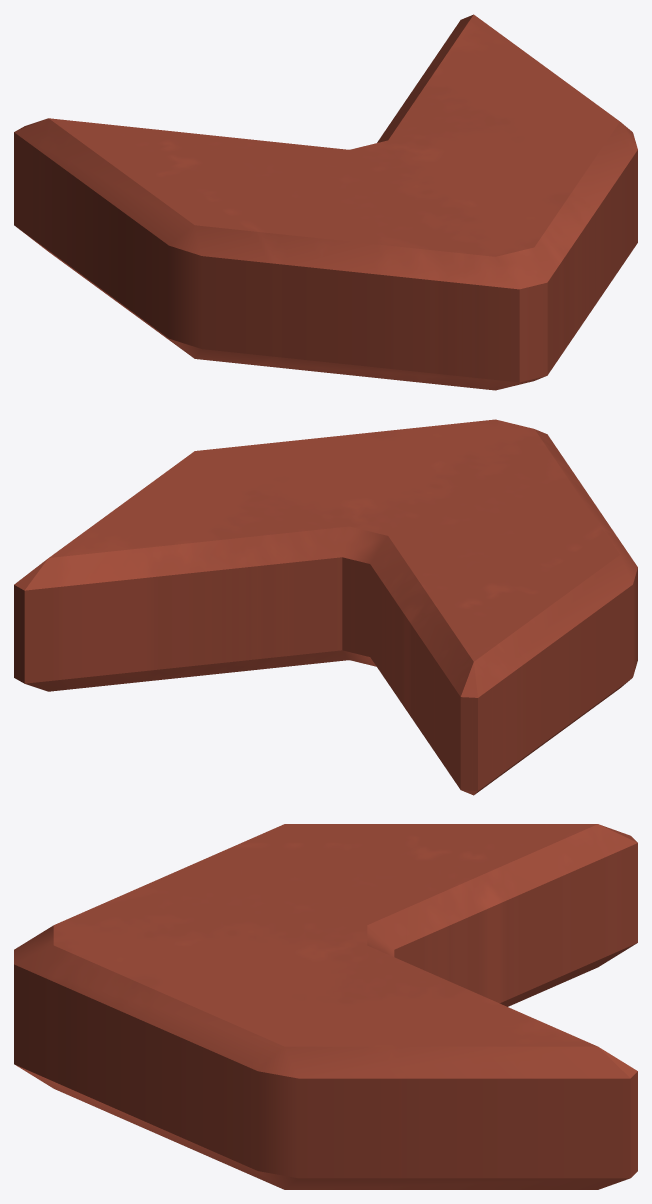
Rendered from Arrow.fbx.
3 views of the same model, one above another, from view 1: azimuth 30°, elevation 25°; view 2: azimuth 150°, elevation 25°; view 3: azimuth 270°, elevation 25° (orthographic). The views are drawn at different scales.
Visible parts, largest first — view 1: Cube.049; view 2: Cube.049; view 3: Cube.049.
Part boxes in pixels (x1,y1,x2,y2): Cube.049: (14,14,637,390); Cube.049: (14,419,637,795); Cube.049: (14,824,637,1189).
Size of the model in its own units: 302 by 83.18 by 328.
Materials: 1 (1 with a texture image).
